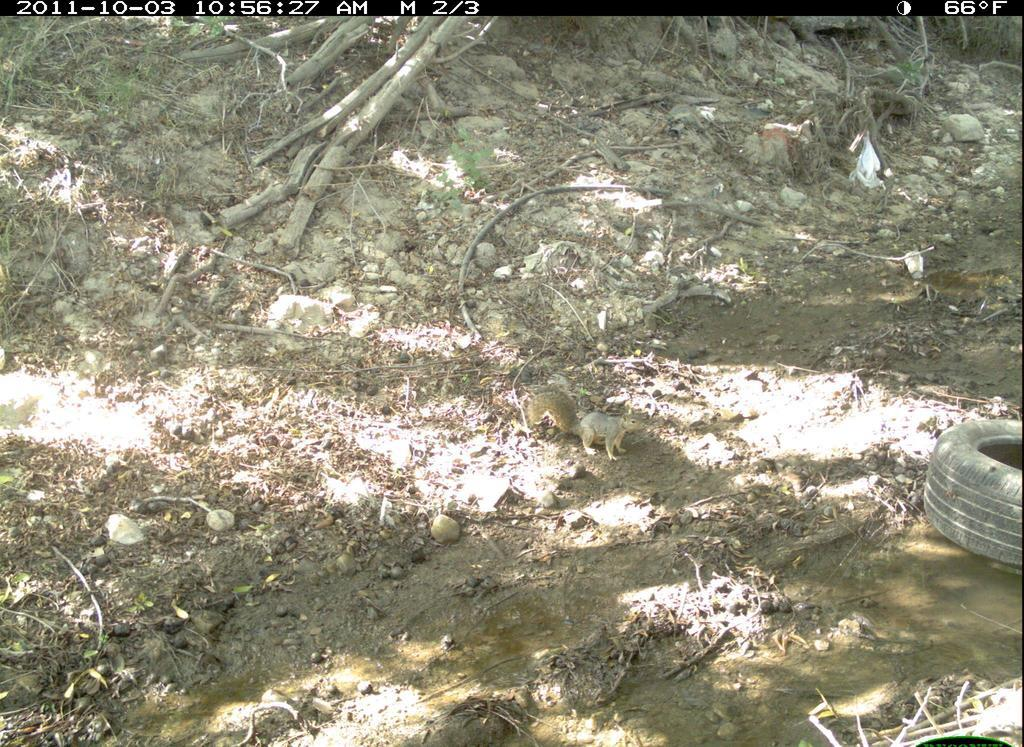squirrel: (522, 380, 653, 465)
